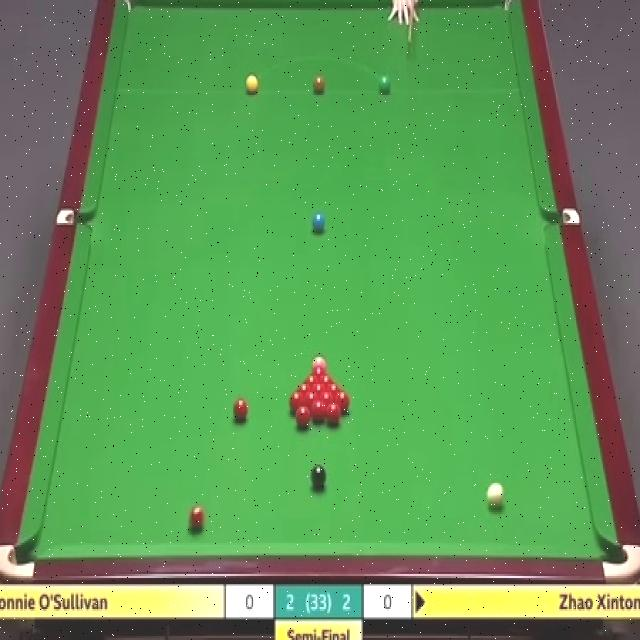black-ball: (309, 463, 325, 489)
blue-ball: (311, 214, 326, 231)
brown-ball: (313, 76, 325, 94)
green-ball: (377, 72, 392, 96)
pink-ball: (312, 356, 327, 372)
red-ball: (188, 504, 206, 532), (293, 405, 311, 428), (233, 398, 248, 422), (311, 399, 326, 422), (326, 404, 341, 426), (333, 391, 348, 412), (289, 392, 303, 414), (320, 392, 334, 413), (298, 382, 310, 396), (312, 368, 324, 381), (313, 384, 324, 397)
white-ball: (486, 481, 505, 508)
yellow-ball: (246, 74, 258, 96)
